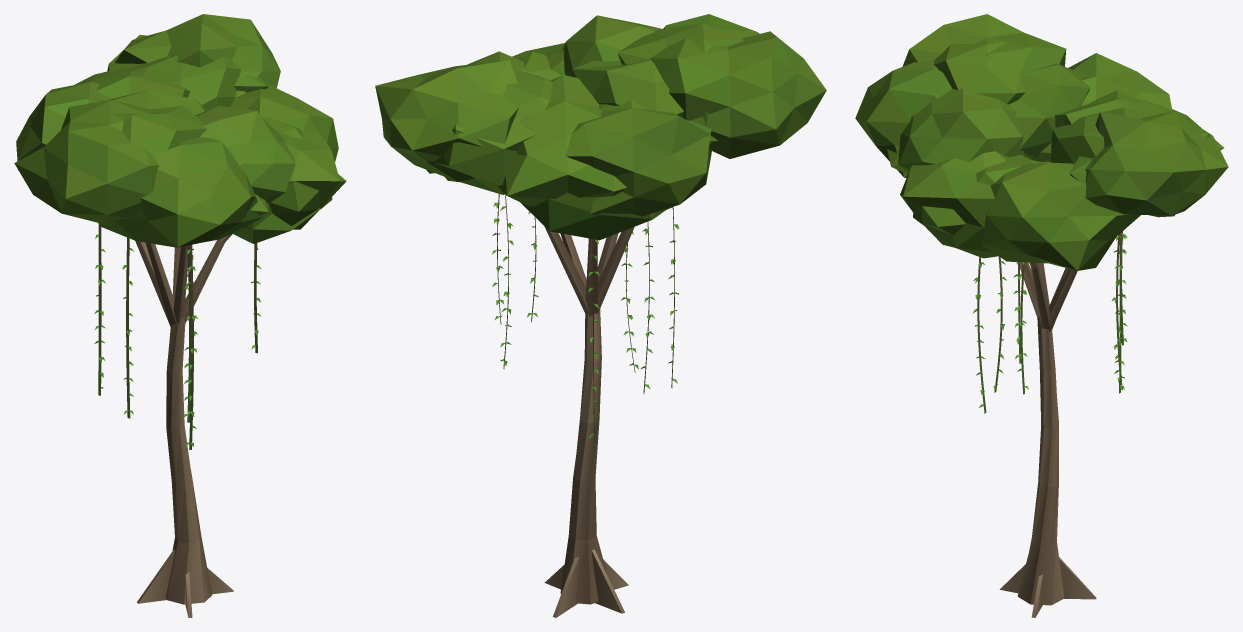
File: canopy_tall.glb
The picture shows the model from 3 angles, left to right: view 1: azimuth 30°, elevation 25°; view 2: azimuth 150°, elevation 25°; view 3: azimuth 270°, elevation 25°; orthographic projection. The views are drawn at different scales.
Visible parts, largest first — view 1: canopy_tall_leafy, canopy_tall_solid, canopy_tall_leaf; view 2: canopy_tall_leafy, canopy_tall_solid, canopy_tall_leaf; view 3: canopy_tall_leafy, canopy_tall_solid, canopy_tall_leaf.
Boxes of the visible parts, left/top/right/bottom form: canopy_tall_leafy: left=14, top=14, right=346, bottom=247; canopy_tall_solid: left=135, top=233, right=233, bottom=617; canopy_tall_leaf: left=94, top=224, right=261, bottom=449; canopy_tall_leafy: left=375, top=14, right=826, bottom=240; canopy_tall_solid: left=544, top=226, right=634, bottom=617; canopy_tall_leaf: left=492, top=194, right=679, bottom=442; canopy_tall_leafy: left=855, top=14, right=1228, bottom=270; canopy_tall_solid: left=999, top=262, right=1096, bottom=617; canopy_tall_leaf: left=973, top=231, right=1127, bottom=413.
Bounding box in the file's own units: 12.79 × 20.05 × 13.2.
